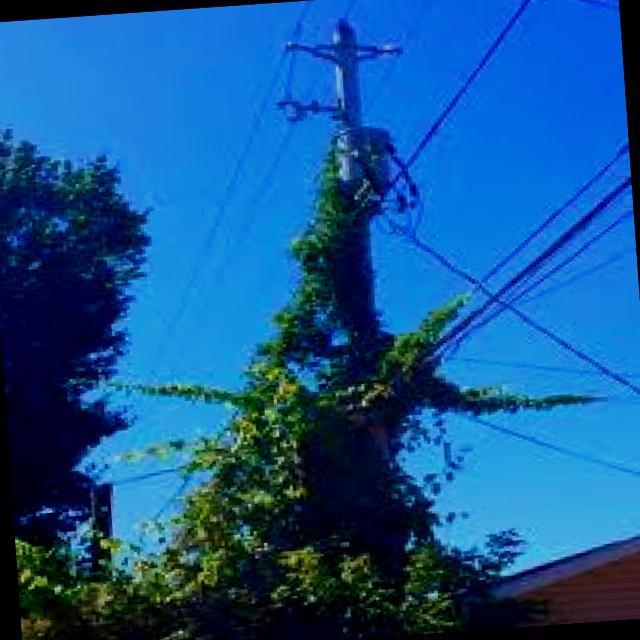critical vegetation: (144, 127, 486, 640)
